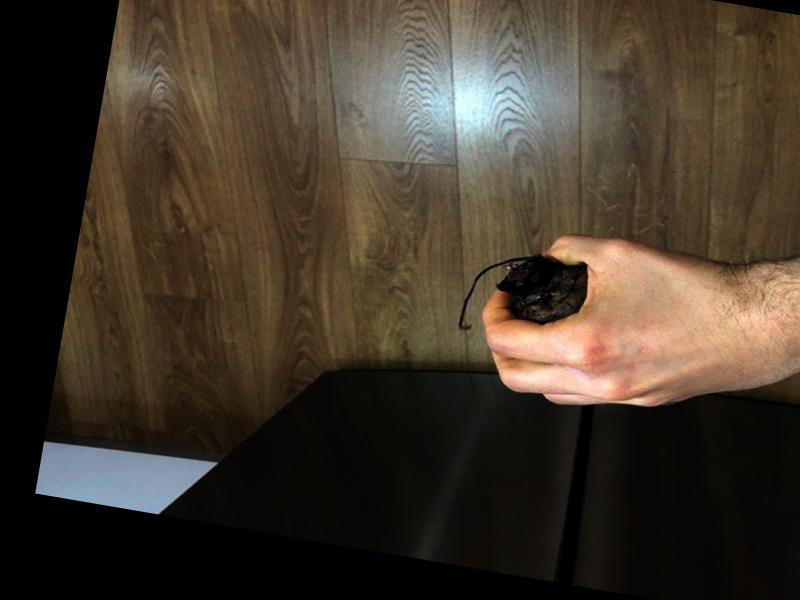Beet: (454, 243, 591, 351)
